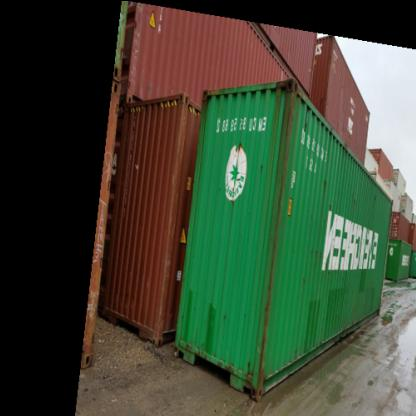Damage: (240, 76, 304, 385)
